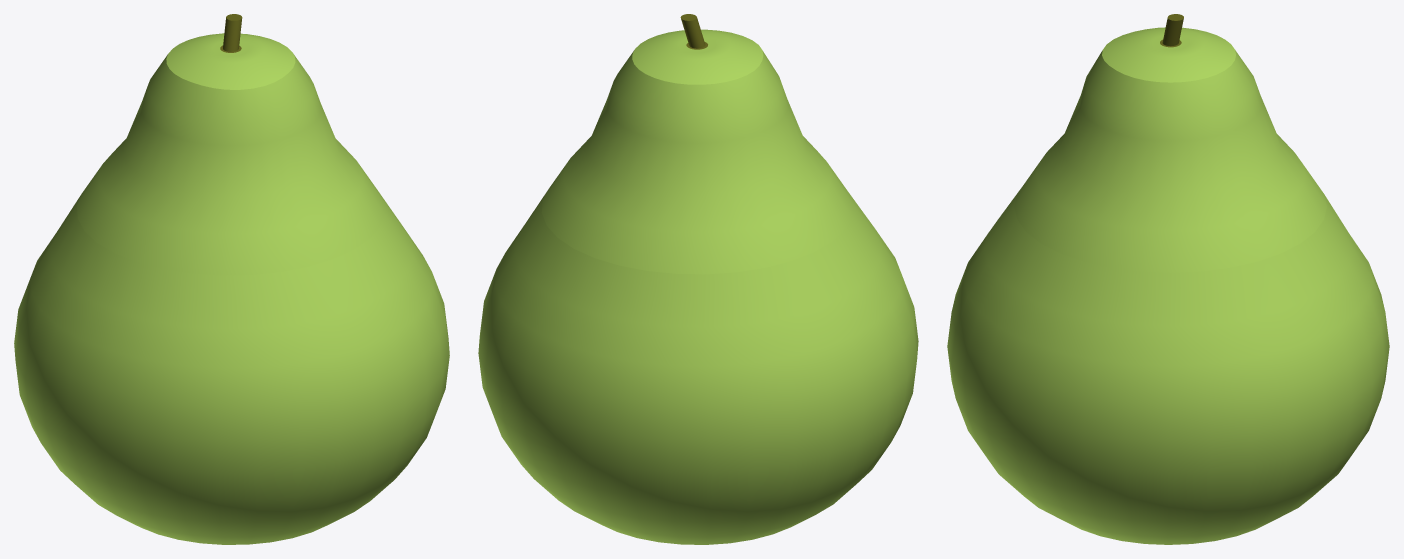
Rendered from Fruit_Pear.fbx.
3 renders of one model, left to right at view 1: azimuth 30°, elevation 25°; view 2: azimuth 150°, elevation 25°; view 3: azimuth 270°, elevation 25°, orthographic.
Parts seen in each view (by area): view 1: Pear; view 2: Pear; view 3: Pear.
Boxes of the visible parts, box(x1,y1,x2,y2) form: Pear: box(14, 14, 449, 544); Pear: box(478, 14, 918, 544); Pear: box(947, 14, 1389, 544).
Size of the model in its own units: 257 by 317 by 257.
